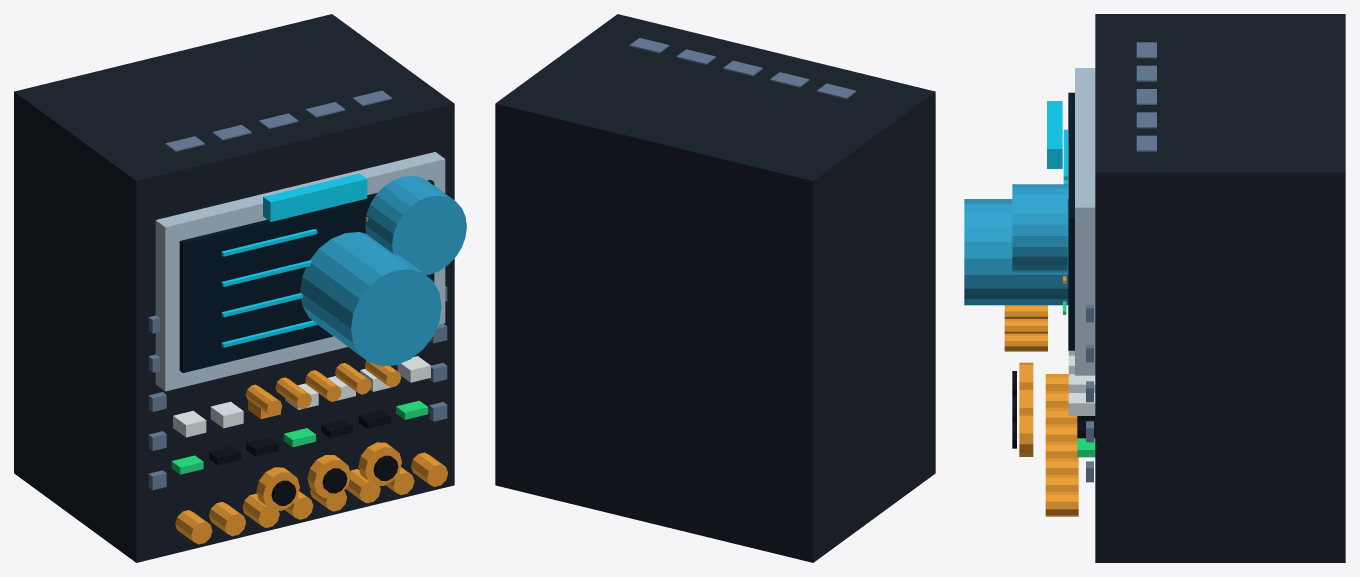
The model's file is 20_L89_SecondaryParticleCounter.fbx.
The picture shows the model from 3 angles, left to right: view 1: azimuth 30°, elevation 25°; view 2: azimuth 150°, elevation 25°; view 3: azimuth 270°, elevation 25°; orthographic projection. The views are drawn at different scales.
Parts seen in each view (by area): view 1: L87_SecondaryParticleCounter_Part_0000, L87_SecondaryParticleCounter_Part_0009, L87_SecondaryParticleCounter_Part_0002, L87_SecondaryParticleCounter_Part_0001, L87_SecondaryParticleCounter_Part_0004, L87_SecondaryParticleCounter_Part_0008, L87_SecondaryParticleCounter_Part_0006, L87_SecondaryParticleCounter_Part_0010, L87_SecondaryParticleCounter_Part_0003, L87_SecondaryParticleCounter_Part_0007, L87_SecondaryParticleCounter_Part_0005, L87_SecondaryParticleCounter_Part_0013 (+2 smaller); view 2: L87_SecondaryParticleCounter_Part_0000, L87_SecondaryParticleCounter_Part_0008; view 3: L87_SecondaryParticleCounter_Part_0000, L87_SecondaryParticleCounter_Part_0009, L87_SecondaryParticleCounter_Part_0004, L87_SecondaryParticleCounter_Part_0001, L87_SecondaryParticleCounter_Part_0008, L87_SecondaryParticleCounter_Part_0002, L87_SecondaryParticleCounter_Part_0006, L87_SecondaryParticleCounter_Part_0010, L87_SecondaryParticleCounter_Part_0015.
Part boxes in pixels (x1,y1,x2,y2): L87_SecondaryParticleCounter_Part_0000: (14, 14, 454, 562); L87_SecondaryParticleCounter_Part_0009: (300, 175, 466, 366); L87_SecondaryParticleCounter_Part_0002: (179, 180, 434, 372); L87_SecondaryParticleCounter_Part_0001: (155, 152, 445, 391); L87_SecondaryParticleCounter_Part_0004: (175, 217, 447, 544); L87_SecondaryParticleCounter_Part_0008: (148, 90, 447, 490); L87_SecondaryParticleCounter_Part_0006: (173, 356, 430, 437); L87_SecondaryParticleCounter_Part_0010: (263, 173, 367, 221); L87_SecondaryParticleCounter_Part_0003: (221, 229, 317, 347); L87_SecondaryParticleCounter_Part_0007: (209, 410, 390, 465); L87_SecondaryParticleCounter_Part_0005: (171, 400, 428, 474); L87_SecondaryParticleCounter_Part_0013: (307, 455, 350, 498); L87_SecondaryParticleCounter_Part_0000: (495, 14, 935, 562); L87_SecondaryParticleCounter_Part_0008: (629, 38, 856, 99); L87_SecondaryParticleCounter_Part_0000: (1095, 14, 1345, 562); L87_SecondaryParticleCounter_Part_0009: (964, 184, 1068, 305); L87_SecondaryParticleCounter_Part_0004: (1004, 276, 1078, 516); L87_SecondaryParticleCounter_Part_0001: (1075, 68, 1095, 375); L87_SecondaryParticleCounter_Part_0008: (1086, 42, 1156, 482); L87_SecondaryParticleCounter_Part_0002: (1068, 92, 1074, 350); L87_SecondaryParticleCounter_Part_0006: (1068, 350, 1095, 415); L87_SecondaryParticleCounter_Part_0010: (1047, 101, 1062, 168); L87_SecondaryParticleCounter_Part_0015: (1019, 413, 1033, 456).
Size of the model in its own units: 112 by 129 by 114.
